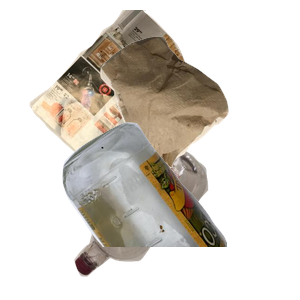glass: (60, 120, 300, 300)
paper: (27, 10, 230, 190)
plastic: (72, 142, 273, 300)
trash: (98, 34, 300, 211)
